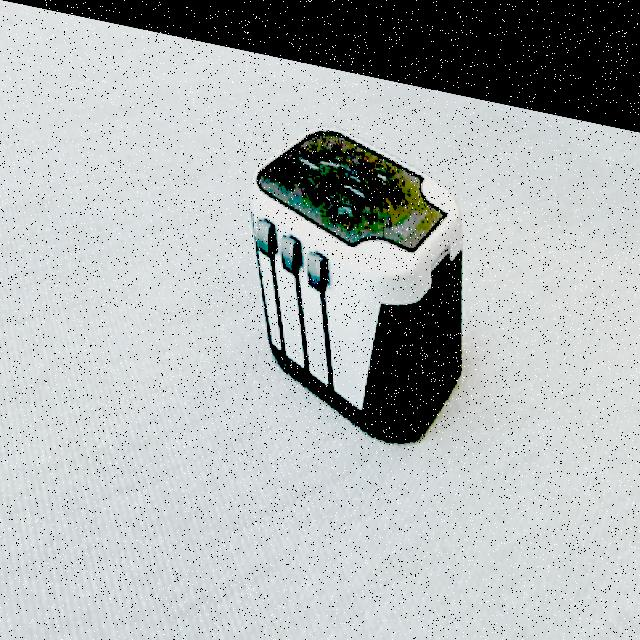adapter: (248, 97, 463, 437)
